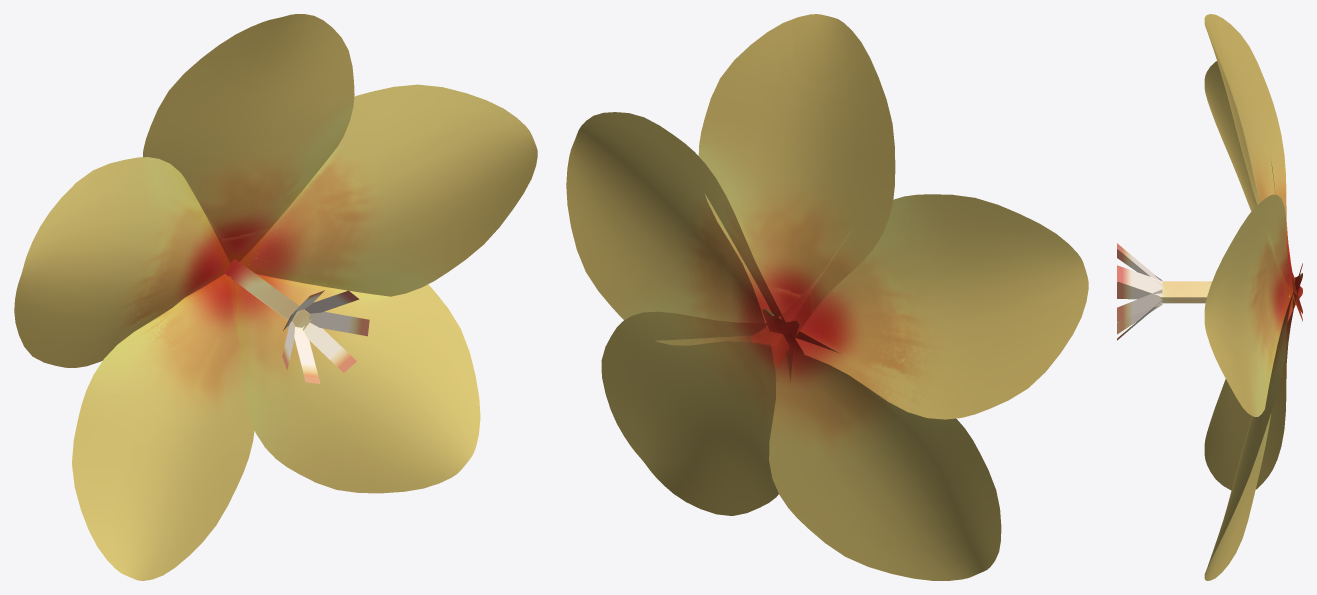
The model's file is Hibi.fbx.
3 renders of one model, left to right at view 1: azimuth 30°, elevation 25°; view 2: azimuth 150°, elevation 25°; view 3: azimuth 270°, elevation 25°, orthographic. The views are drawn at different scales.
Parts seen in each view (by area): view 1: __Plane.002; view 2: __Plane.002; view 3: __Plane.002.
Part boxes in pixels (x1,y1,x2,y2): __Plane.002: (14, 14, 537, 580); __Plane.002: (566, 14, 1088, 580); __Plane.002: (1117, 14, 1302, 580).
Bounding box in the file's own units: 0.7951 × 0.7802 × 0.2576.
